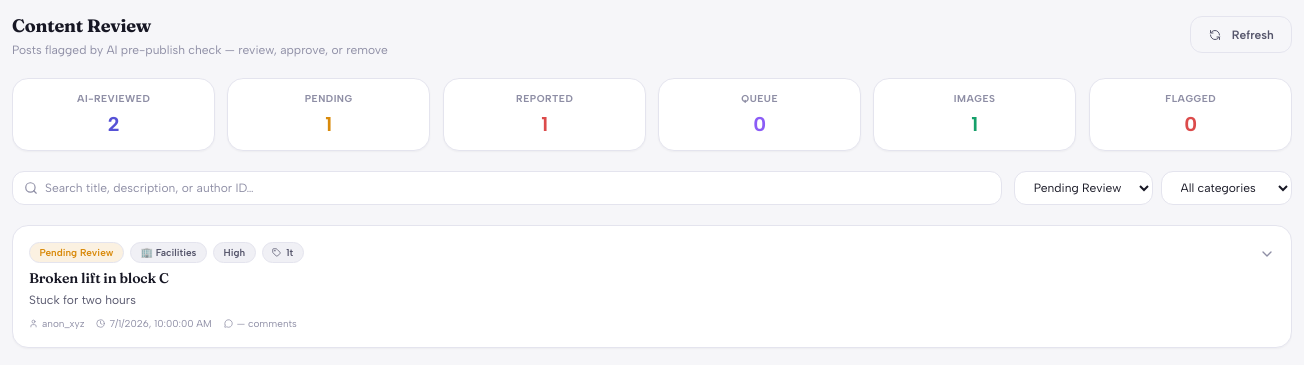
Scenario: ContentReview — filters › filters by status
Expected: the heading "Broken lift in block C" is shown, [29,269,169,287]
Select "Reported" in the 1st dropdown at (1084, 188), box [1014,171,1153,205]
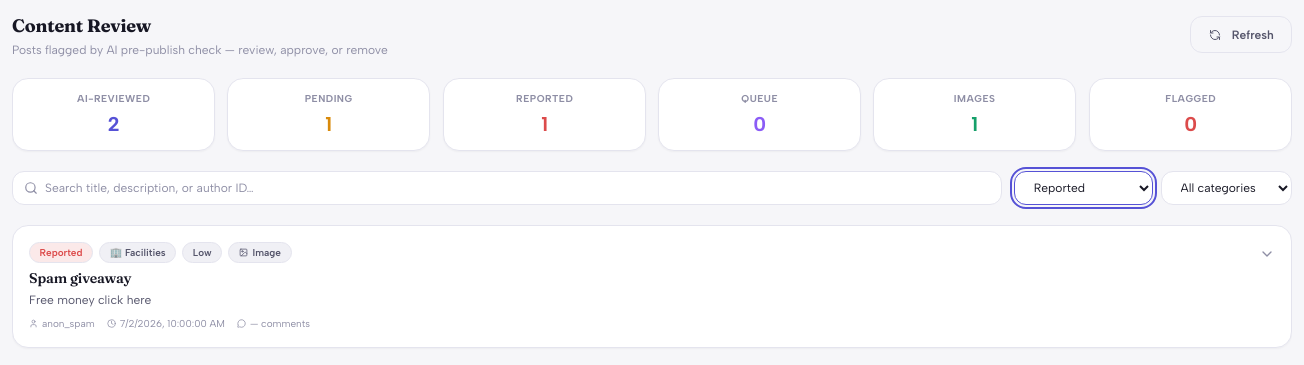
Result: the heading "Broken lift in block C" is gone
Result: the heading "Spam giveaway" is shown at [29,269,132,287]
